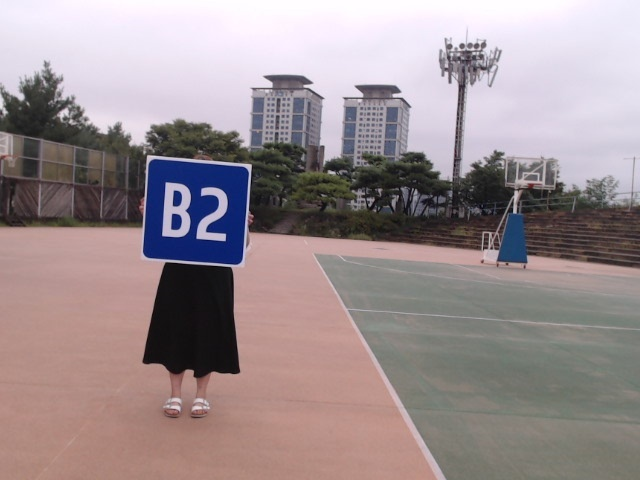delivery_b2: (140, 157, 251, 265)
